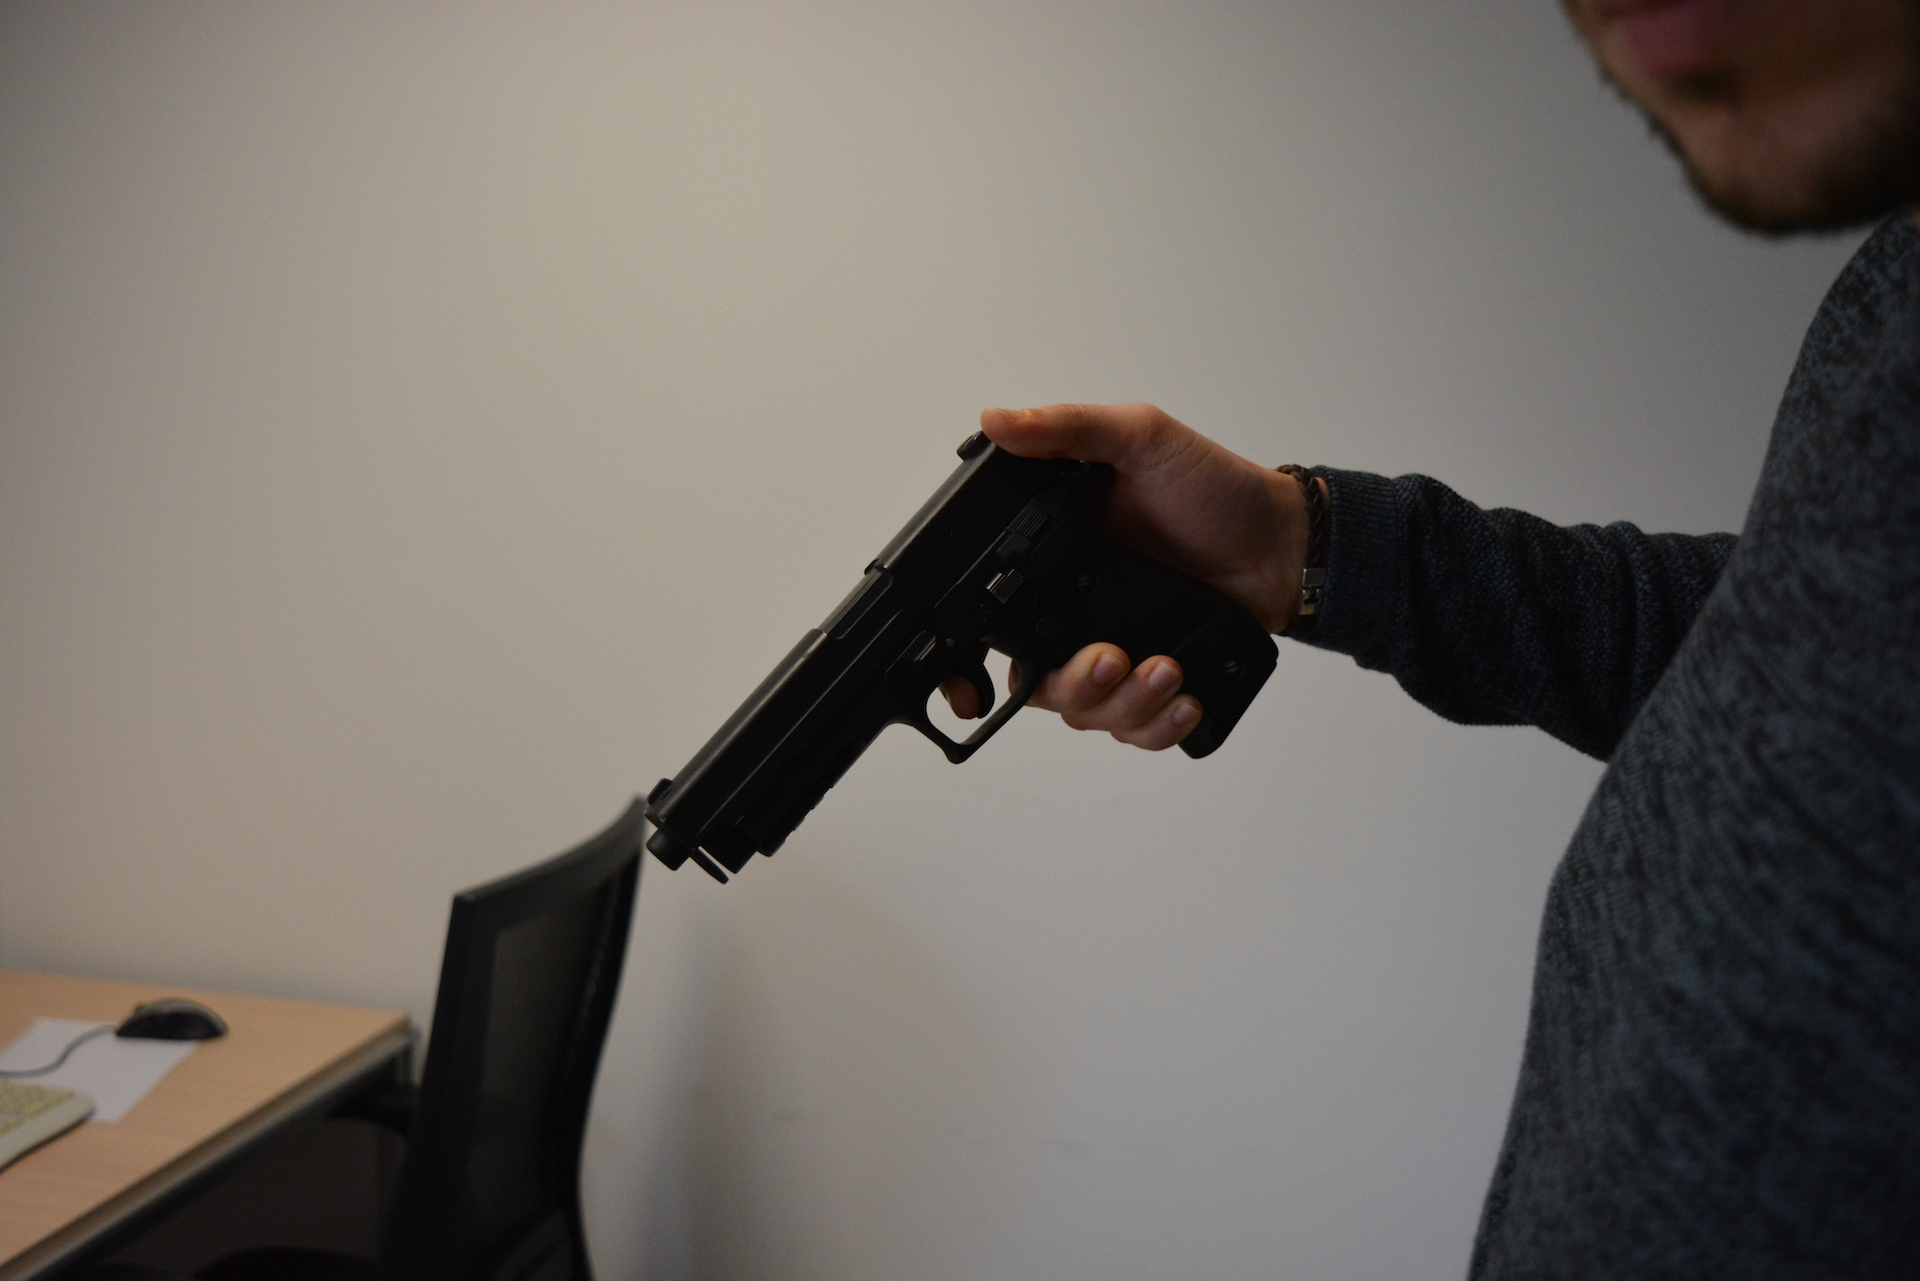pistol: (640, 416, 1285, 888)
